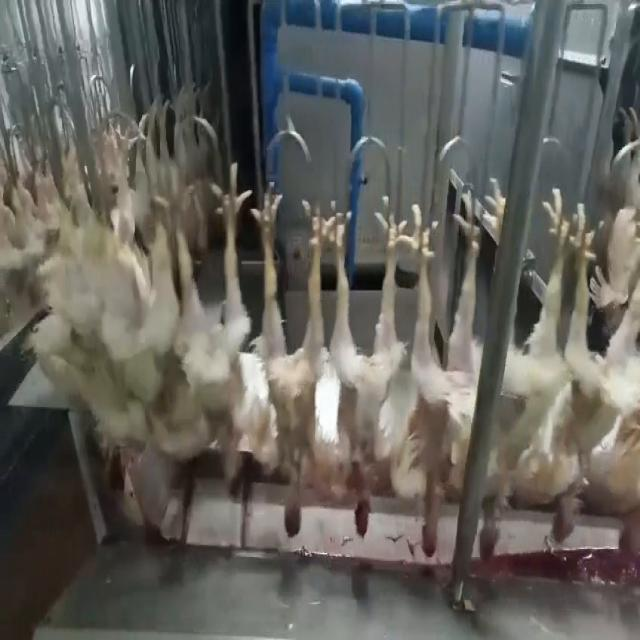chicken: (401, 186, 490, 558), (319, 198, 412, 538), (512, 191, 598, 551), (245, 180, 324, 542), (163, 164, 245, 496), (589, 198, 639, 563)
